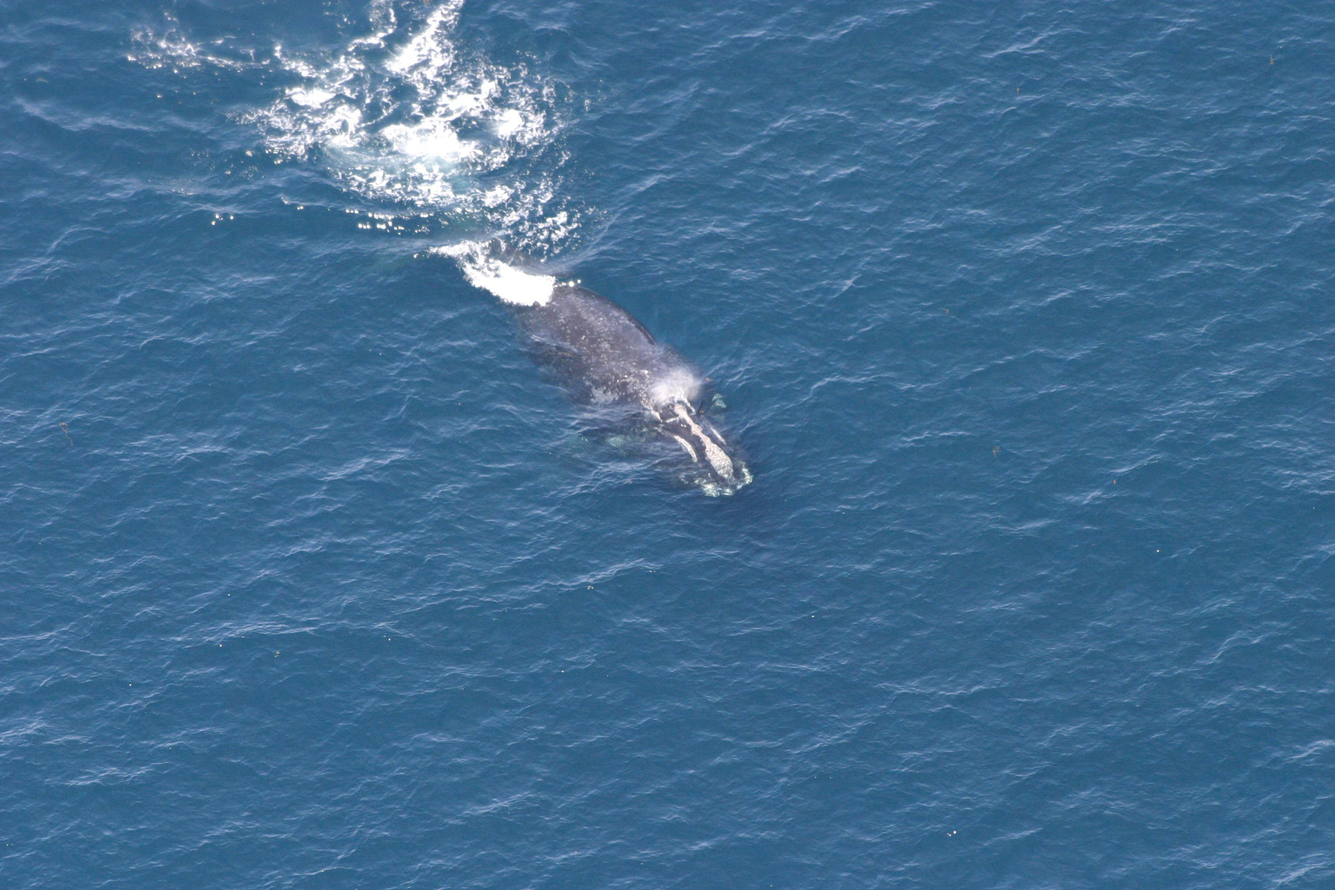whale: (370, 155, 771, 519)
